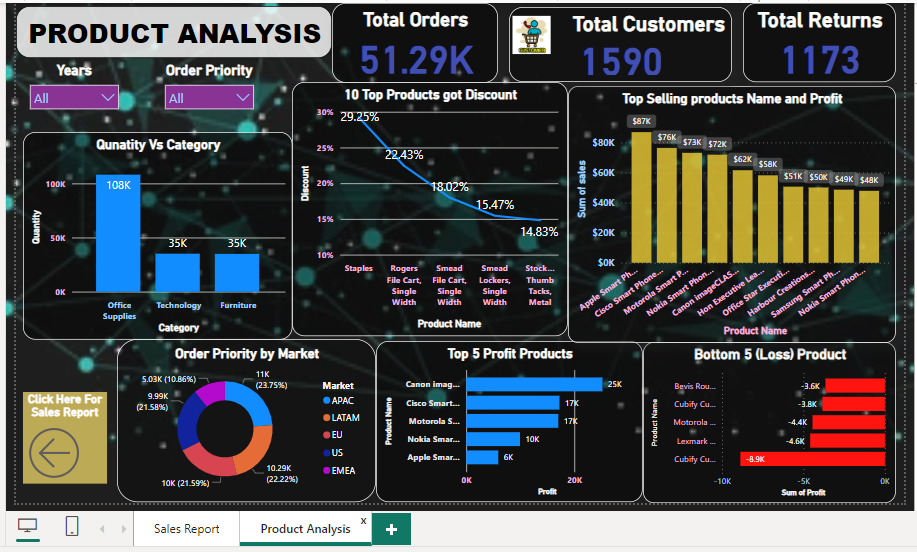

The page's visual inventory and layout, read from the dashboard file:
{"tool":"powerbi","page":{"name":"Product Analysis Report","canvas":[1280,720],"ordinal":1},"visuals":[{"type":"barChart","title":"Top 5 Profit  Products","fields":{"Category":["Orders.Product Name"],"Y":["Sum(Orders.Profit)"]},"box":[518.4,486.7,384.5,231.8],"z":0},{"type":"barChart","title":"Bottom 5 (Loss) Product","fields":{"Category":["Orders.Product Name"],"Y":["Sum(Orders.Profit)"]},"box":[902.9,488.2,364.3,231.8],"z":1000},{"type":"clusteredColumnChart","title":"Top Selling products Name and Profit","fields":{"Category":["Orders.Product Name"],"Y":["Sum(Orders.Sales)"]},"box":[794.5,119.3,472,369.6],"z":2000},{"type":"slicer","title":"Years","fields":{"Values":["Orders.Order Date.Variation.Date Hierarchy.Year"]},"box":[10.1,85.7,147.8,105.8],"z":3000},{"type":"donutChart","title":"Order Priority by Market","fields":{"Category":["Orders.Market"],"Y":["CountNonNull(Orders.Order Priority)"]},"box":[145.4,483.8,373,234.7],"z":4000},{"type":"textbox","box":[0,4.3,455,74.9],"z":5000},{"type":"card","title":"Total Orders","fields":{"Values":["CountNonNull(Orders.Order ID)"]},"box":[455,0,239,115.2],"z":6000},{"type":"card","title":"Total  Returns","fields":{"Values":["CountNonNull(Returns.Order ID)"]},"box":[1046.5,0,220.1,114.2],"z":7000},{"type":"card","title":"Total Customers","fields":{"Values":["Orders.Total Customers"]},"box":[709.9,5.8,321.1,108],"z":8000},{"type":"columnChart","title":"Quantity Vs Category","fields":{"Category":["Orders.Category"],"Y":["Sum(Orders.Quantity)"]},"box":[10.1,186.5,388,299],"z":9000},{"type":"lineChart","title":"10 Top  Products got Discount","fields":{"Category":["Orders.Product Name"],"Y":["Sum(Orders.Discount)"]},"box":[397.4,113.8,397.4,365.8],"z":10000},{"type":"slicer","title":"Order Priority","fields":{"Values":["Orders.Order Priority"]},"box":[204.9,85.7,147.8,105.8],"z":11000},{"type":"image","box":[709.9,11.5,64.8,67.7],"z":12000},{"type":"actionButton","title":"Click Here For Sales Report","box":[10.1,560.2,121,132.5],"z":13000}]}

Visuals, with their boxes on the page's 1280x720 design canvas (x1, y1, x2, y2). These are canvas units, not pixel positions in the 917x552 screenshot, which may show the page scaled, cropped or inside an application window:
"Top 5 Profit  Products" barChart: select_region(518, 487, 903, 718)
"Bottom 5 (Loss) Product" barChart: select_region(903, 488, 1267, 720)
"Top Selling products Name and Profit" clusteredColumnChart: select_region(794, 119, 1266, 489)
"Years" slicer: select_region(10, 86, 158, 192)
"Order Priority by Market" donutChart: select_region(145, 484, 518, 718)
textbox: select_region(0, 4, 455, 79)
"Total Orders" card: select_region(455, 0, 694, 115)
"Total  Returns" card: select_region(1046, 0, 1267, 114)
"Total Customers" card: select_region(710, 6, 1031, 114)
"Quantity Vs Category" columnChart: select_region(10, 186, 398, 486)
"10 Top  Products got Discount" lineChart: select_region(397, 114, 795, 480)
"Order Priority" slicer: select_region(205, 86, 353, 192)
image: select_region(710, 12, 775, 79)
"Click Here For Sales Report" actionButton: select_region(10, 560, 131, 693)
